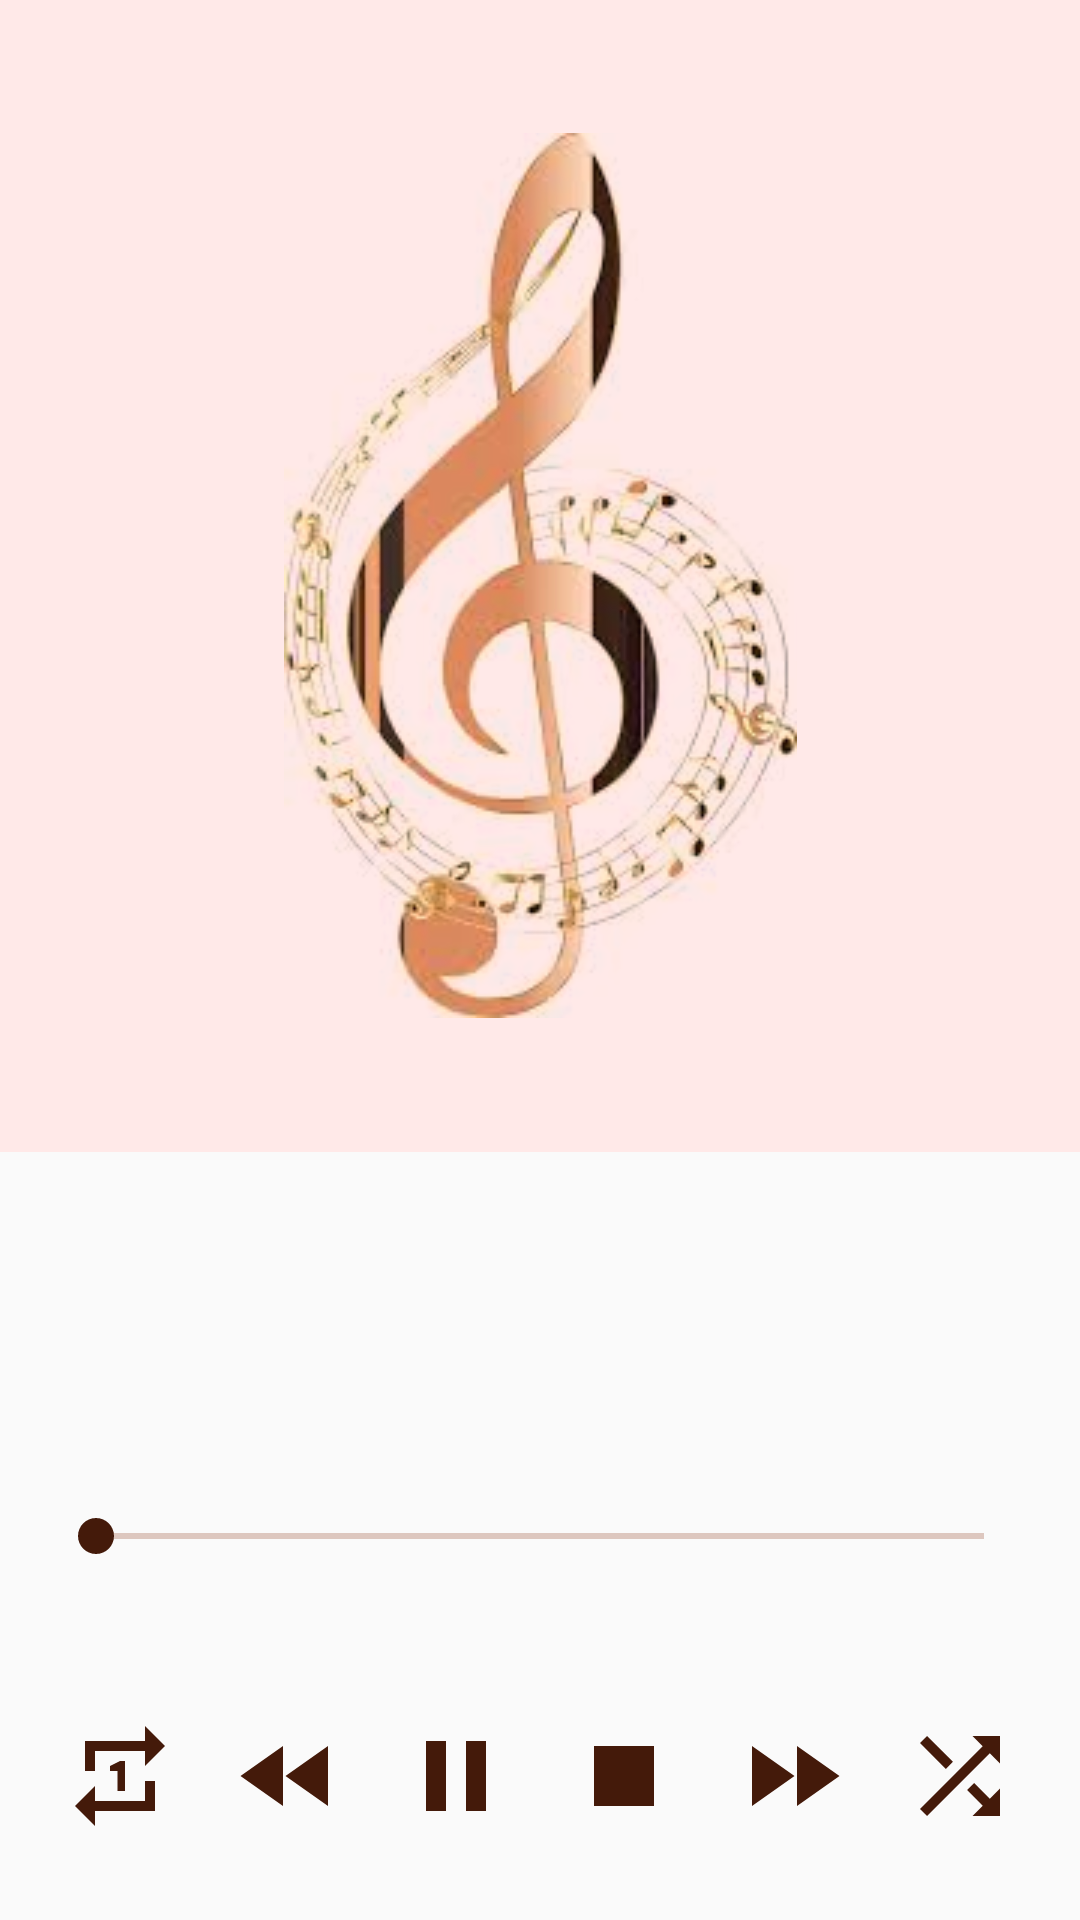

Point at icon controls on the screen. Image size 1080*1920, points as point (x, y).
fast forward: point (795, 1776)
fast rewind: point (284, 1776)
pause music: point (456, 1776)
repeat one: point (120, 1776)
shuffle: point (960, 1776)
